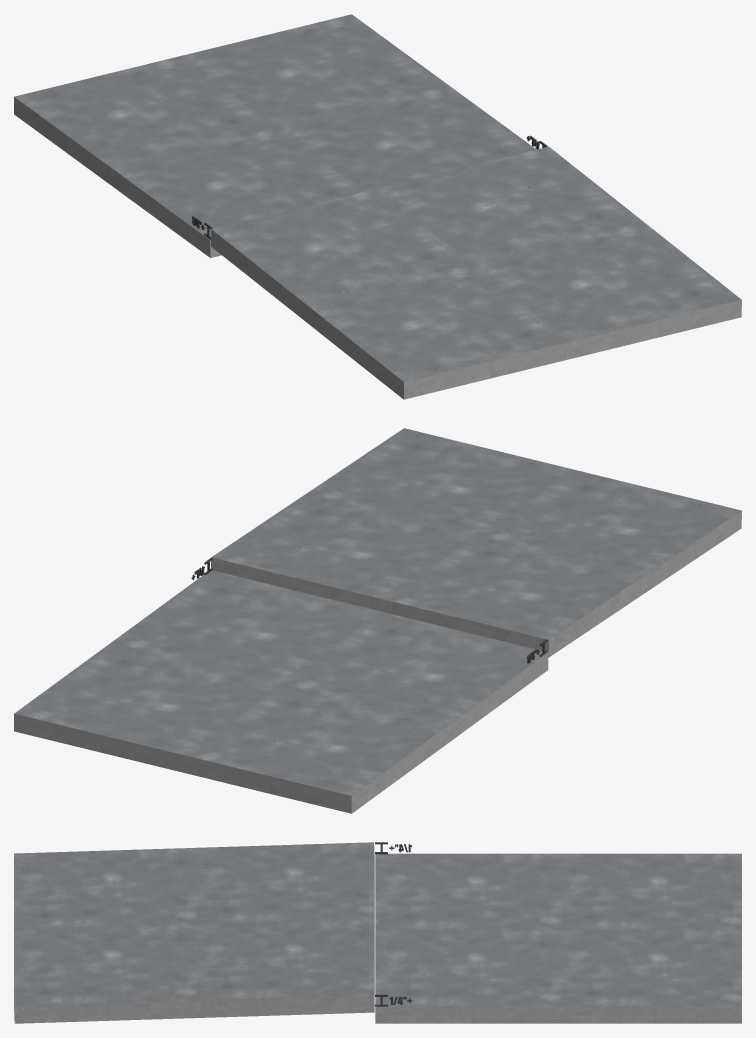
Rendered from trip hazard.gltf.
The picture shows the model from 3 angles, top to bottom: view 1: azimuth 30°, elevation 25°; view 2: azimuth 150°, elevation 25°; view 3: azimuth 270°, elevation 25°; orthographic projection. The views are drawn at different scales.
Parts seen in each view (by area): view 1: CSP 1-CSP 1, CSP 1-Concrete; view 2: CSP 1-CSP 1, CSP 1-Concrete (×2); view 3: CSP 1-CSP 1, CSP 1-Concrete.
Boxes of the visible parts, box(x1,y1,x2,y2) form: CSP 1-CSP 1: box(14, 14, 741, 382); CSP 1-Concrete: box(14, 97, 741, 399); CSP 1-CSP 1: box(14, 428, 741, 795); CSP 1-Concrete (×2): box(14, 511, 741, 813); CSP 1-CSP 1: box(14, 842, 741, 1007); CSP 1-Concrete: box(14, 996, 741, 1023).
Size of the model in its own units: 1 by 0.0852 by 2.
Materials: 3 (2 with a texture image).
